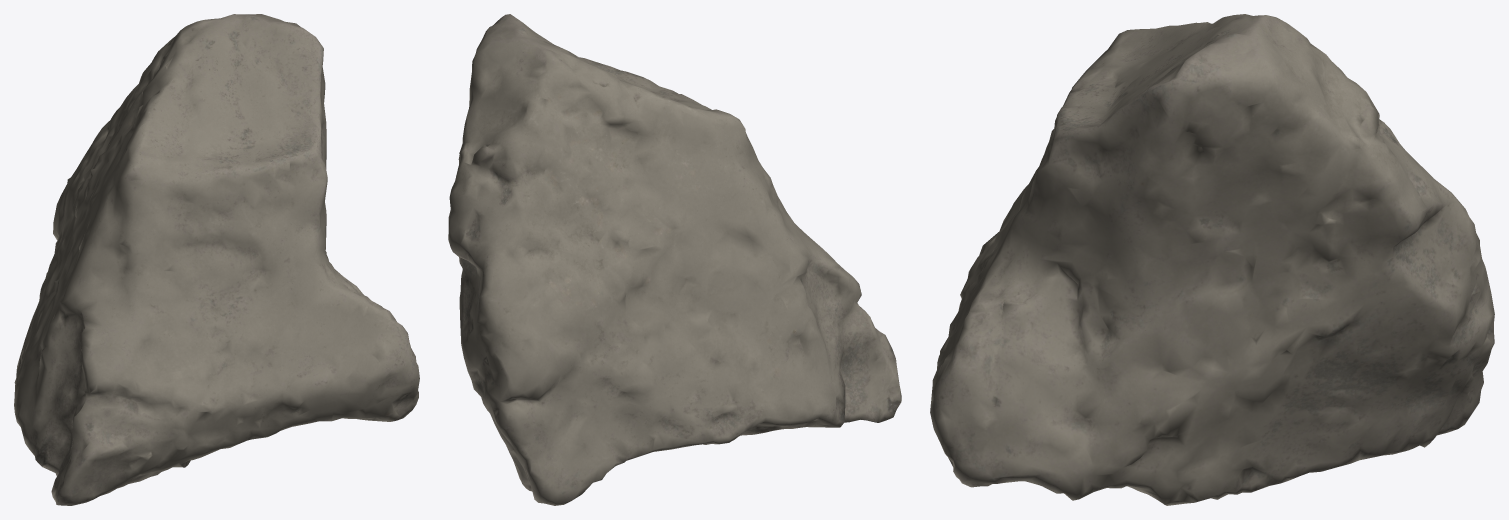
Rendered from moon_rock_05.glb.
3 views of the same model, side by side, from view 1: azimuth 30°, elevation 25°; view 2: azimuth 150°, elevation 25°; view 3: azimuth 270°, elevation 25° (orthographic). The views are drawn at different scales.
Visible parts, largest first — view 1: moon_rock_05_LOD0; view 2: moon_rock_05_LOD0; view 3: moon_rock_05_LOD0.
Part boxes in pixels (bbox=[...]): moon_rock_05_LOD0: bbox=[14, 14, 419, 505]; moon_rock_05_LOD0: bbox=[448, 14, 901, 505]; moon_rock_05_LOD0: bbox=[930, 14, 1494, 505].
Bounding box in the file's own units: 0.0717 × 0.0734 × 0.0811.
1 material, 1 textured.
